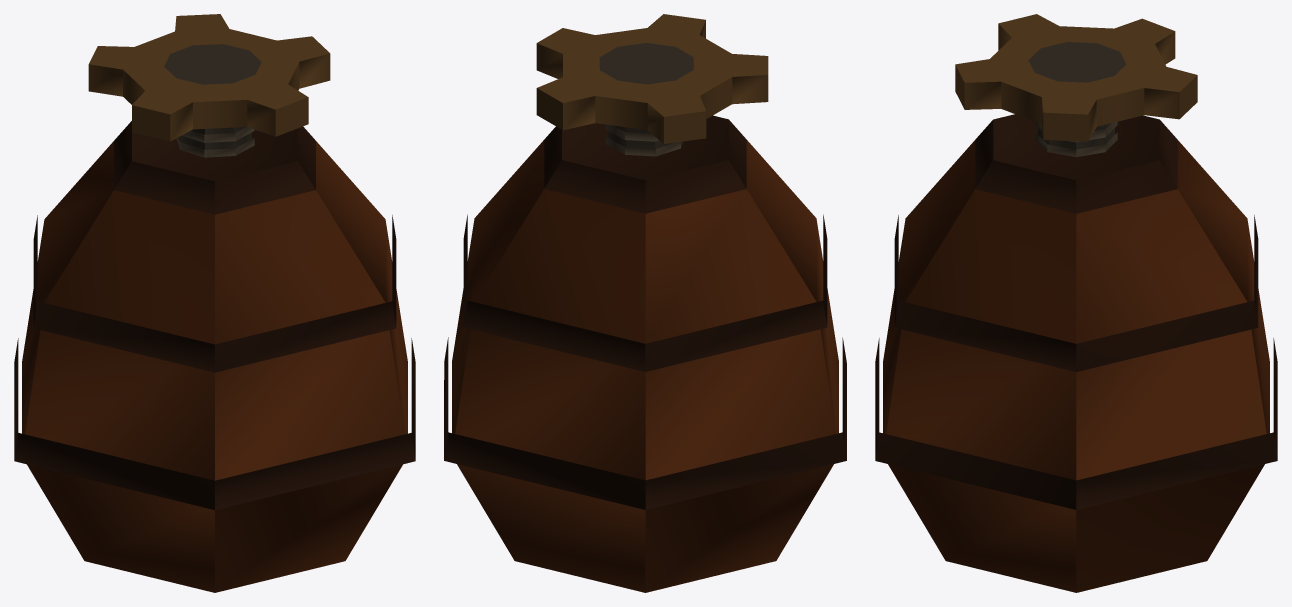
Rendered from grenade_Steampunk.glb.
The picture shows the model from 3 angles, left to right: view 1: azimuth 30°, elevation 25°; view 2: azimuth 150°, elevation 25°; view 3: azimuth 270°, elevation 25°; orthographic projection.
Visible parts, largest first — view 1: grenade_Steampunk; view 2: grenade_Steampunk; view 3: grenade_Steampunk.
Boxes of the visible parts, bbox=[...] form: grenade_Steampunk: bbox=[14, 14, 415, 592]; grenade_Steampunk: bbox=[444, 14, 846, 592]; grenade_Steampunk: bbox=[875, 14, 1277, 592].
Size of the model in its own units: 0.1261 by 0.1532 by 0.1092.
